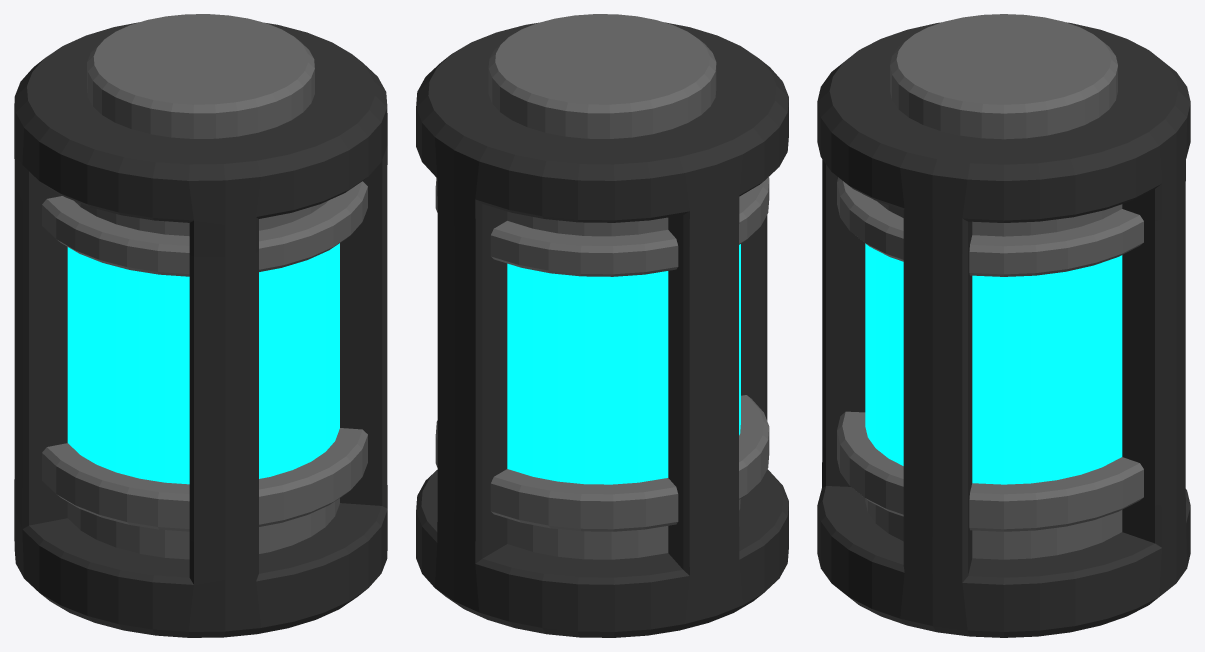
Rendered from Canister.fbx.
3 renders of one model, left to right at view 1: azimuth 30°, elevation 25°; view 2: azimuth 150°, elevation 25°; view 3: azimuth 270°, elevation 25°, orthographic.
Visible parts, largest first — view 1: Cylinder.035; view 2: Cylinder.035; view 3: Cylinder.035.
Boxes of the visible parts, left/top/right/bottom form: Cylinder.035: left=14, top=14, right=387, bottom=637; Cylinder.035: left=416, top=14, right=788, bottom=637; Cylinder.035: left=817, top=14, right=1190, bottom=637.
Bounding box in the file's own units: 200 × 298 × 200.
